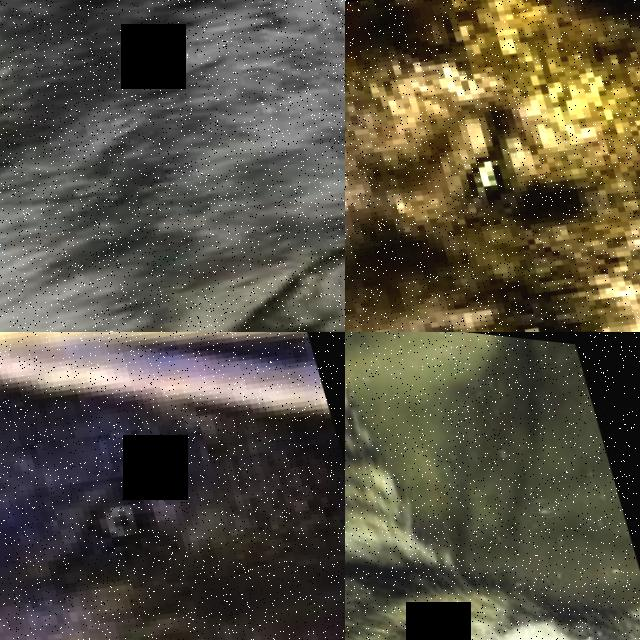wolf: (0, 0, 345, 332), (0, 332, 345, 640), (345, 0, 640, 332), (345, 332, 640, 640), (345, 184, 640, 332)
